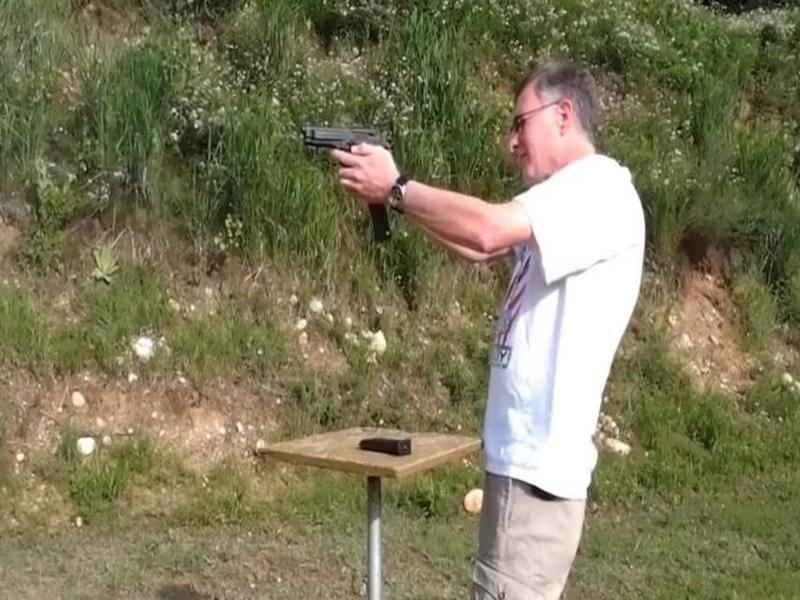Pistola: (295, 92, 395, 206)
